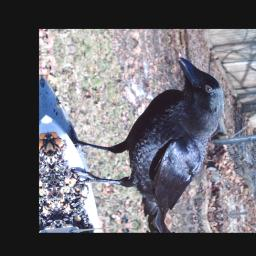Crow: (60, 52, 237, 231)
